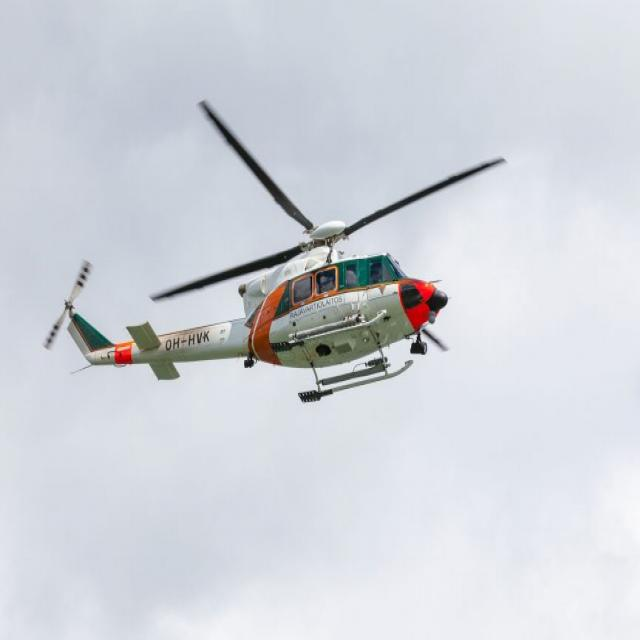helicopter: (39, 89, 512, 404)
